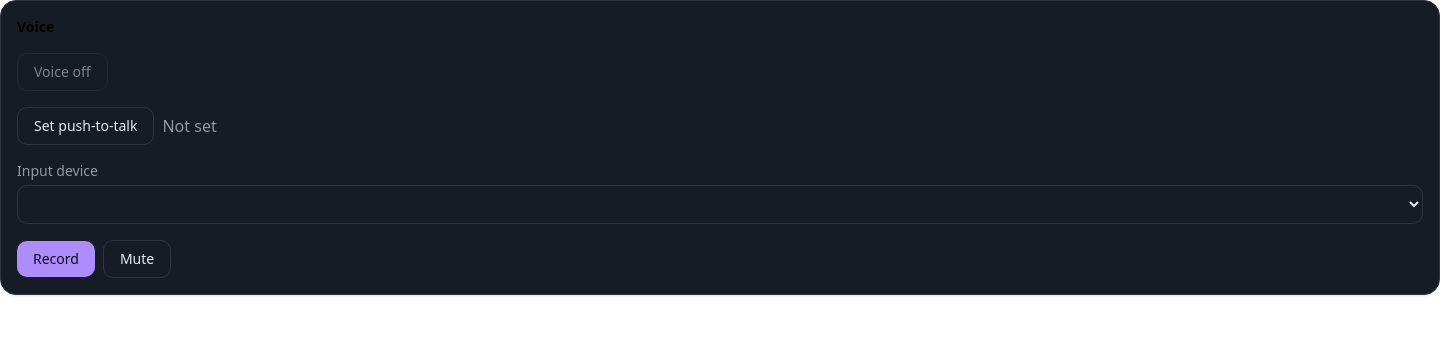
Test case: AudioPanel (TK-224 AC3: honest controls) › disables the capture controls with an explanation once the drop-dir is reported unconfigured
Expected: the dropdown labelled "Input device" is shown, [17,185,1423,224]
Click the button "Record".
click(56, 259)  # box [17,241,95,277]
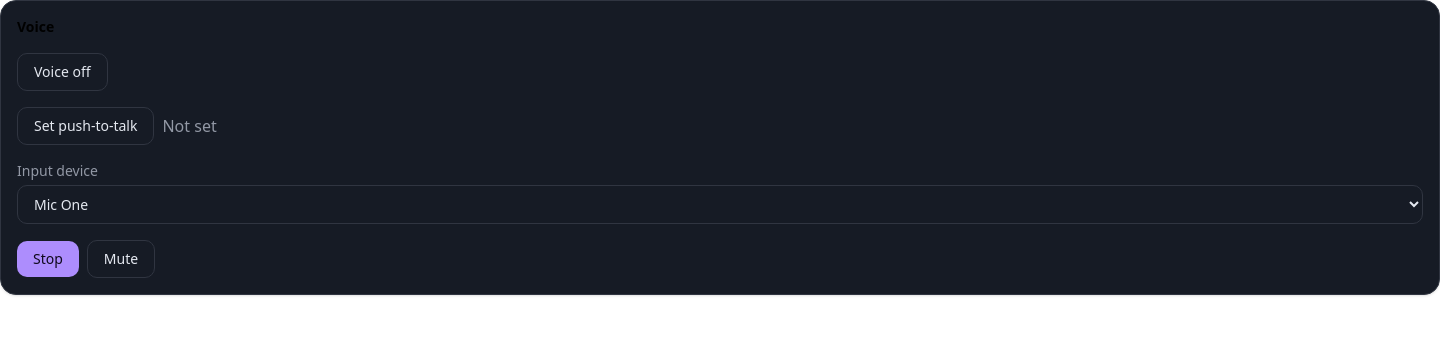
Click the button "Stop".
click(48, 259)  # box [17,241,79,277]
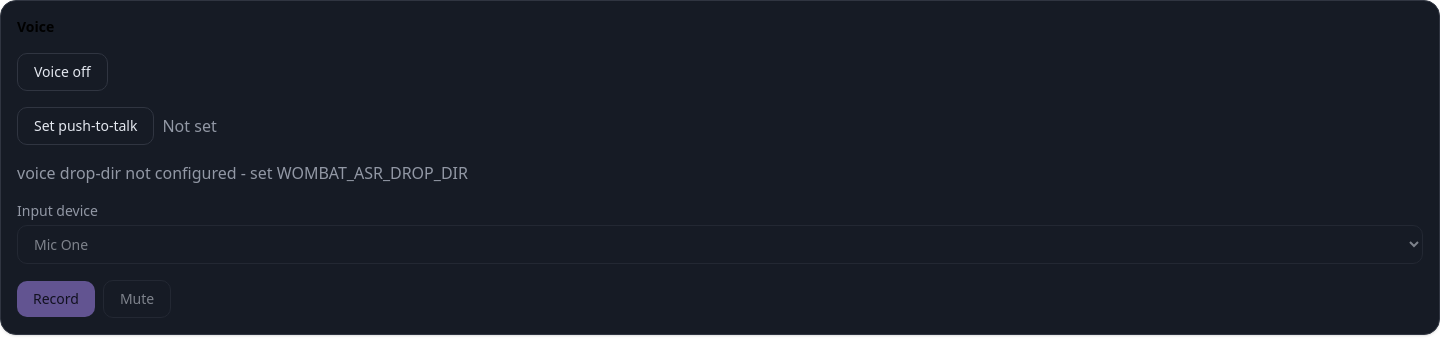
Expected: the text "voice drop-dir not configured - set WOMBAT_ASR_DROP_DIR" is shown, [17,162,468,184]
Expected: the button "Record" is disabled, [17,281,95,317]
Expected: the button "Mute" is disabled, [103,280,171,318]
